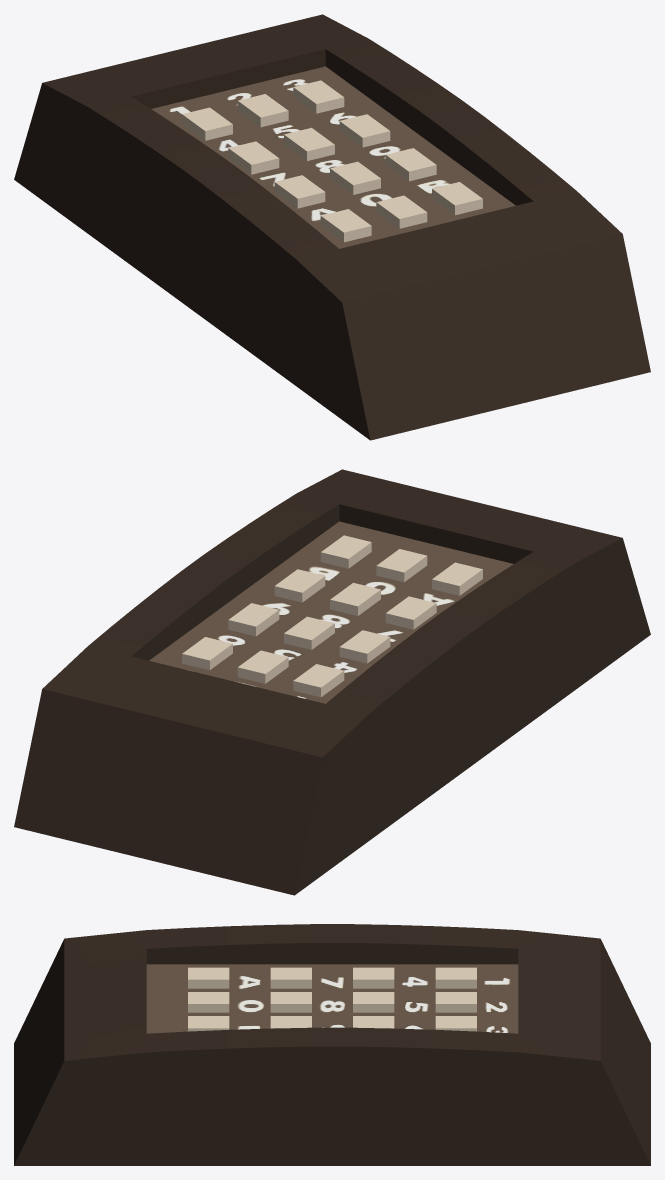
File: CodeBox.FBX
3 renders of one model, top to bottom at view 1: azimuth 30°, elevation 25°; view 2: azimuth 150°, elevation 25°; view 3: azimuth 270°, elevation 25°, orthographic. The views are drawn at different scales.
Visible parts, largest first — view 1: Box004; view 2: Box004; view 3: Box004.
Part boxes in pixels (box(x1,y1,x2,y2)): Box004: box(14, 14, 650, 440); Box004: box(14, 469, 650, 895); Box004: box(14, 924, 650, 1165).
Bounding box in the file's own units: 7.5 × 3.41 × 16.5.
